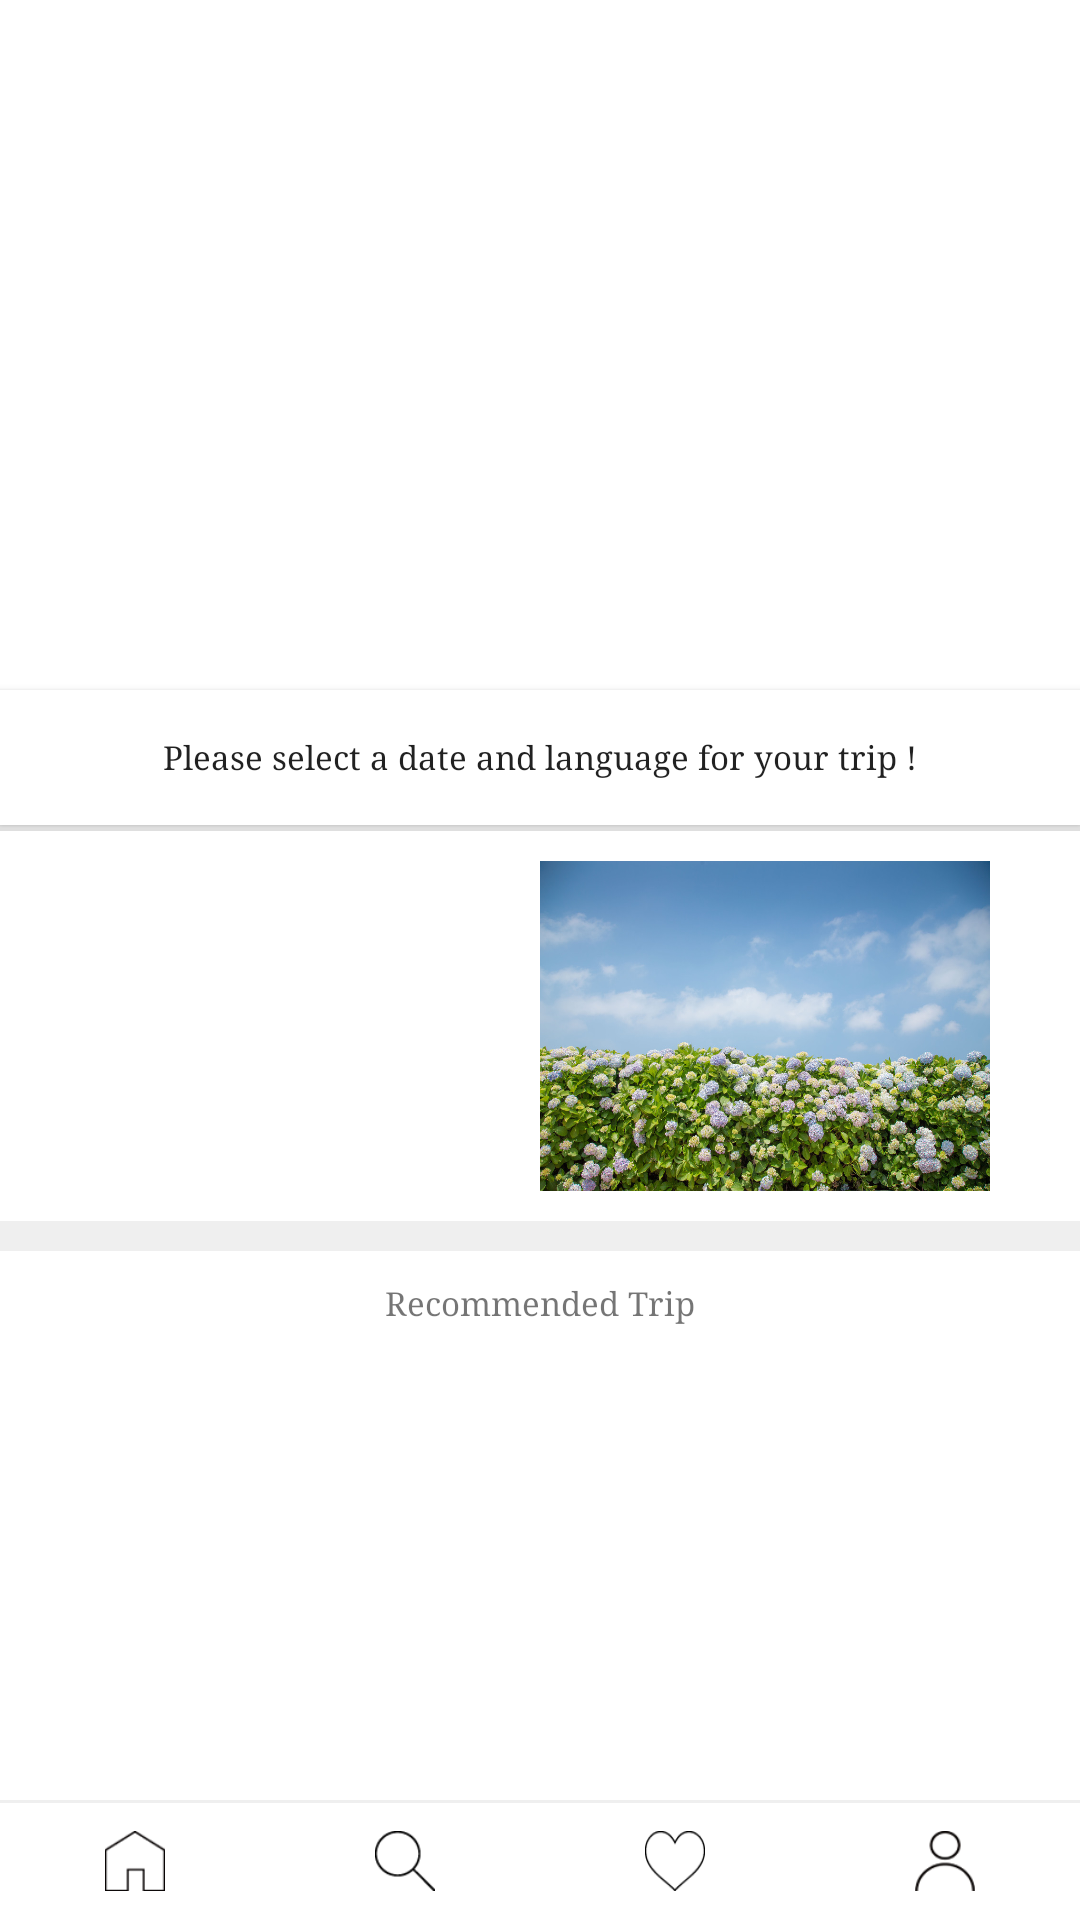

Named icons in this screenshot (1080*1920) and their centers, (x,y):
home: (135,1861)
mypage: (945,1861)
search: (405,1861)
wishlist: (675,1861)
